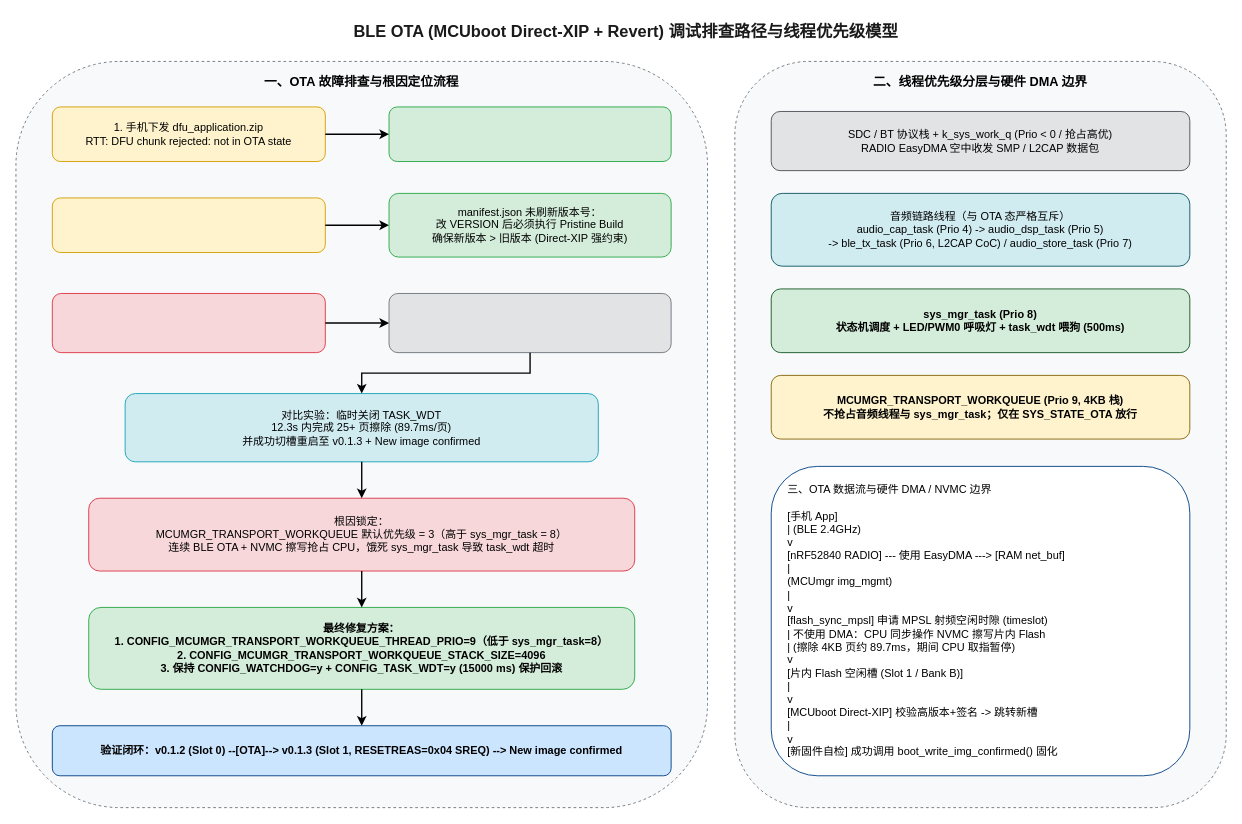
Some shapes in this 1242 by 824 pixel diagram are drawn without their labels. Each missing label, with the centre of its shape:
2. 改 VERSION 后增量编译升级 重启后仍显示旧版本 v0.1.0: [188,225]
3. 进入 OTA 并连接后突然复位 RTT: RESETREAS=0x00000002 (DOG): [188,323]
启用 LOG_MODE_IMMEDIATE=y + FLASH/IMG_MGMT DBG 日志: [529,323]
门控机制正常生效： 先按 BTN4 进入 SYS_STATE_OTA (LED3 呼吸): [529,134]
